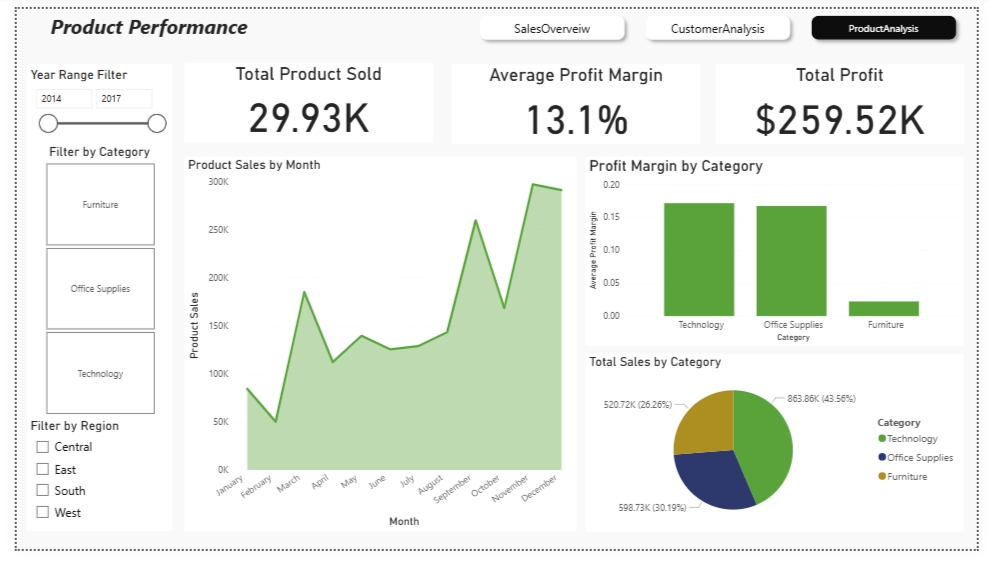

What the dashboard file says about the page in this screenshot:
{"tool":"powerbi","page":{"name":"ProductAnalysis","canvas":[1280,720],"ordinal":2},"visuals":[{"type":"textbox","box":[0,0,1280,67.1],"z":0},{"type":"card","title":"Total Product Sold","fields":{"Values":["Sum(FactOrders.Quantity)"]},"box":[223.3,71.7,331.7,106.7],"z":1000},{"type":"columnChart","title":"Profit Margin by Category","fields":{"Category":["DimProducts.Category"],"Y":["FactOrders.Average Profit Margin"]},"box":[758.6,197.1,504.3,252.9],"z":2000},{"type":"slicer","title":"Year Range Filter","fields":{"Values":["DimDates.Year"]},"box":[12.9,72.9,194.3,107.1],"z":3000},{"type":"slicer","title":"Filter by Category","fields":{"Values":["DimProducts.Category"]},"box":[12.9,175.7,194.3,371.4],"z":4000},{"type":"slicer","title":"Filter by Region","fields":{"Values":["DimCustomers.Region"]},"box":[12.9,545.7,194.3,151.4],"z":5000},{"type":"pageNavigator","box":[608.6,0,654.3,50],"z":6000},{"type":"pieChart","fields":{"Category":["DimProducts.Category"],"Y":["Sum(FactOrders.Sales)"]},"box":[758.6,460,504.3,237.1],"z":7000},{"type":"card","title":"Total Profit","fields":{"Values":["Sum(FactOrders.Profit)"]},"box":[931.7,73.3,331.7,106.7],"z":8000},{"type":"card","title":"Average Profit Margin","fields":{"Values":["FactOrders.Average Profit Margin"]},"box":[580,73.3,331.7,106.7],"z":9000},{"type":"areaChart","fields":{"Y":["Sum(FactOrders.Sales)"],"Category":["DimDates.FullDate.Variation.Date Hierarchy.Year","DimDates.FullDate.Variation.Date Hierarchy.Quarter","DimDates.FullDate.Variation.Date Hierarchy.Month","DimDates.FullDate.Variation.Date Hierarchy.Day"]},"box":[223.3,196.7,523.3,500],"z":10000}]}

Visuals, with their boxes in screenshot pixels (x1, y1, x2, y2), scaled from the page's 1280x720 canvas onto the 989x561 screenshot:
textbox: box(0, 0, 988, 52)
"Total Product Sold" card: box(173, 56, 429, 139)
"Profit Margin by Category" columnChart: box(586, 154, 976, 351)
"Year Range Filter" slicer: box(10, 57, 160, 140)
"Filter by Category" slicer: box(10, 137, 160, 426)
"Filter by Region" slicer: box(10, 425, 160, 543)
pageNavigator: box(470, 0, 976, 39)
pieChart - DimProducts.Category x Sum(FactOrders.Sales): box(586, 358, 976, 543)
"Total Profit" card: box(720, 57, 976, 140)
"Average Profit Margin" card: box(448, 57, 704, 140)
areaChart - Sum(FactOrders.Sales) x DimDates.FullDate.Variation.Date Hierarchy.Year: box(173, 153, 577, 543)
